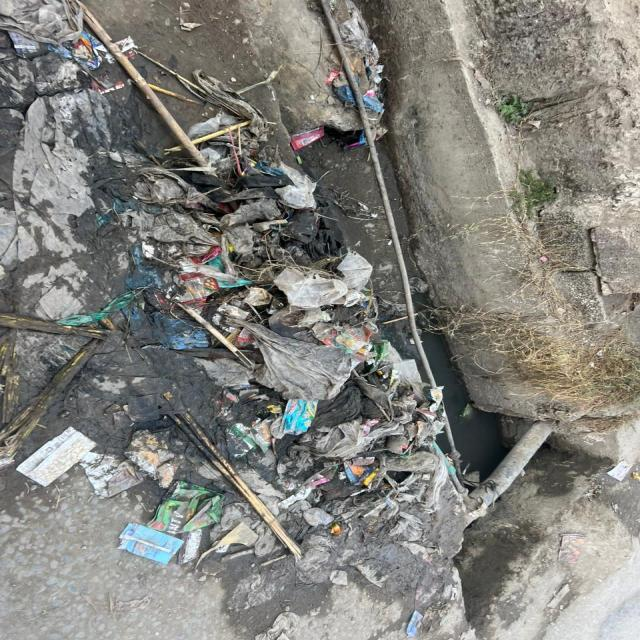garbage: (0, 3, 468, 586)
